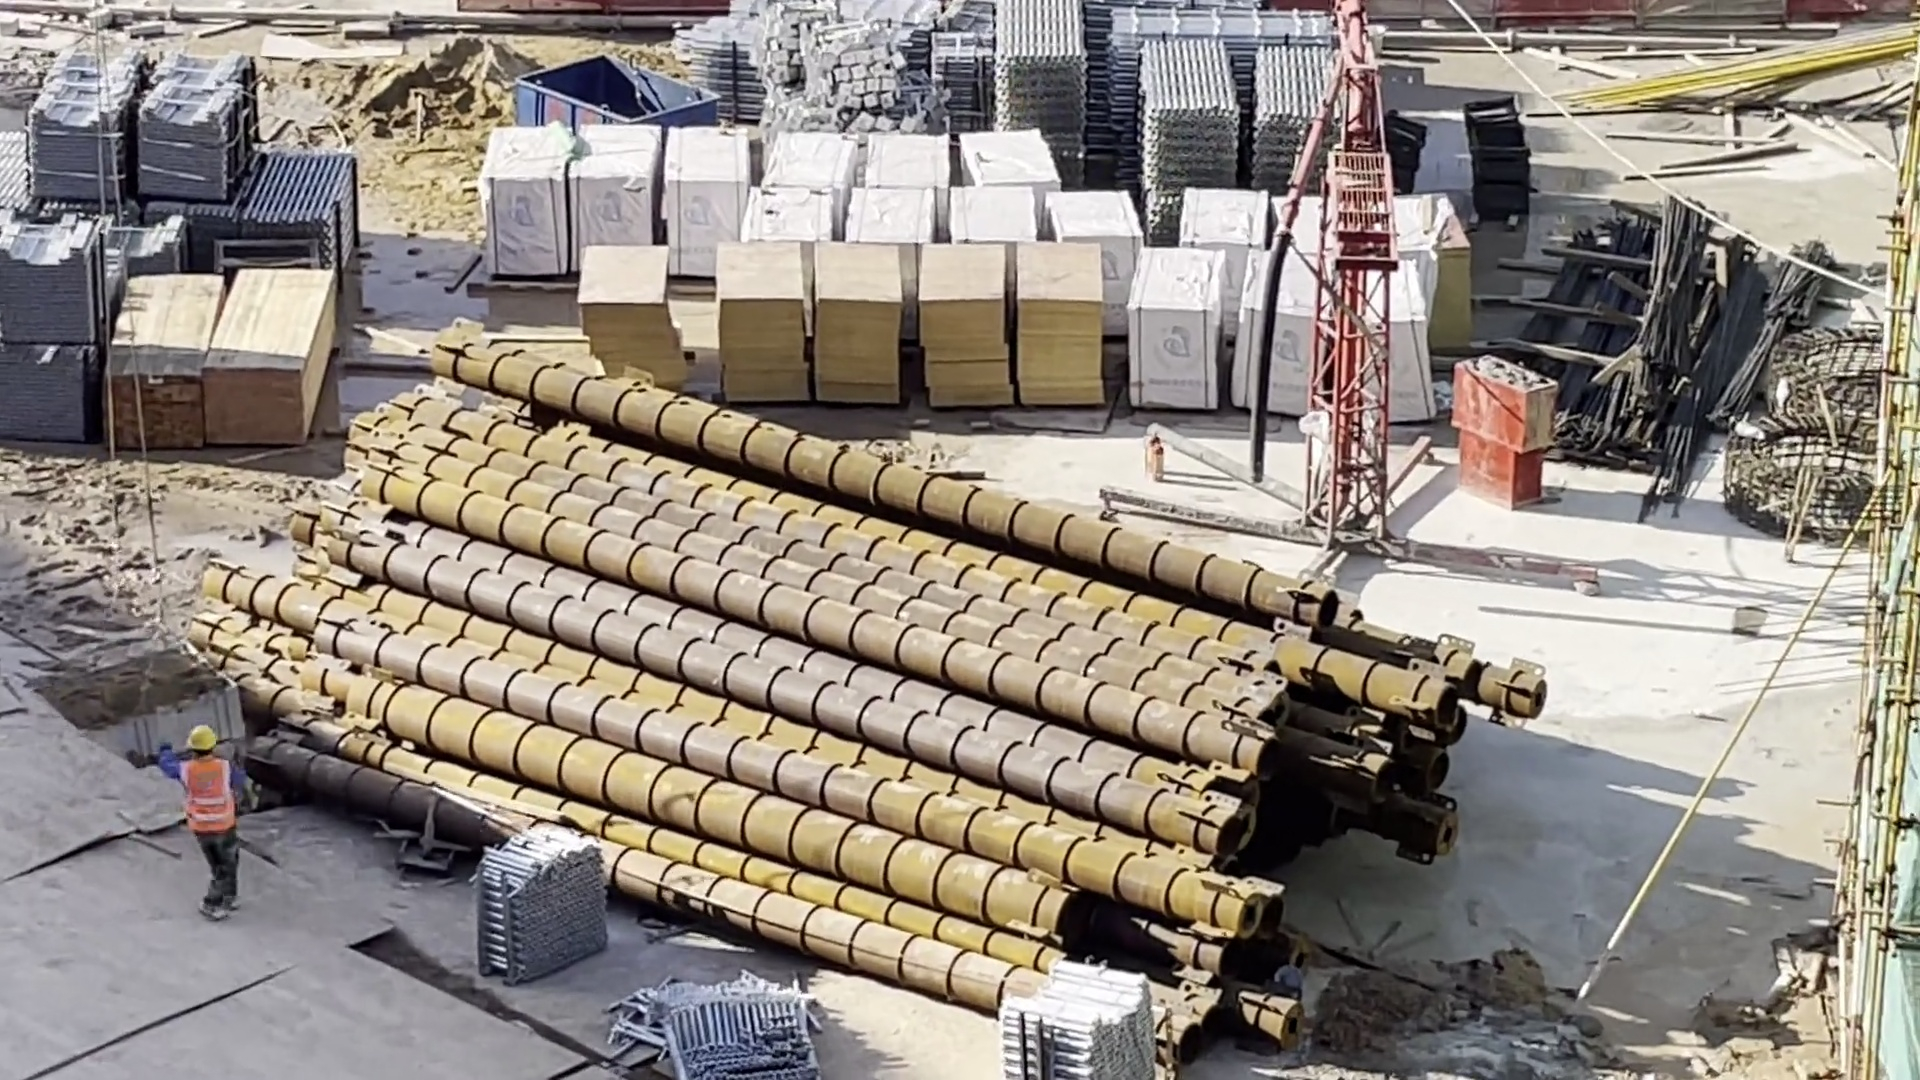board: (805, 240, 897, 417), (227, 265, 315, 444), (1011, 253, 1103, 424), (920, 244, 1007, 415), (723, 246, 803, 401), (585, 256, 661, 397)
helmet: (185, 728, 215, 747)
hopper: (41, 660, 236, 768), (527, 65, 707, 118)
person: (179, 729, 245, 928)
rebar: (1706, 257, 1824, 420), (1596, 213, 1706, 385), (1535, 236, 1637, 419), (1656, 281, 1747, 457), (1478, 245, 1586, 367)
scaffold: (474, 841, 619, 981), (642, 997, 837, 1080), (993, 9, 1093, 136), (995, 976, 1115, 1080), (1148, 52, 1231, 165), (253, 160, 352, 247), (1124, 17, 1356, 53), (1263, 59, 1335, 169), (937, 45, 985, 104)
vest: (185, 757, 235, 829)
wood: (107, 280, 211, 462)
